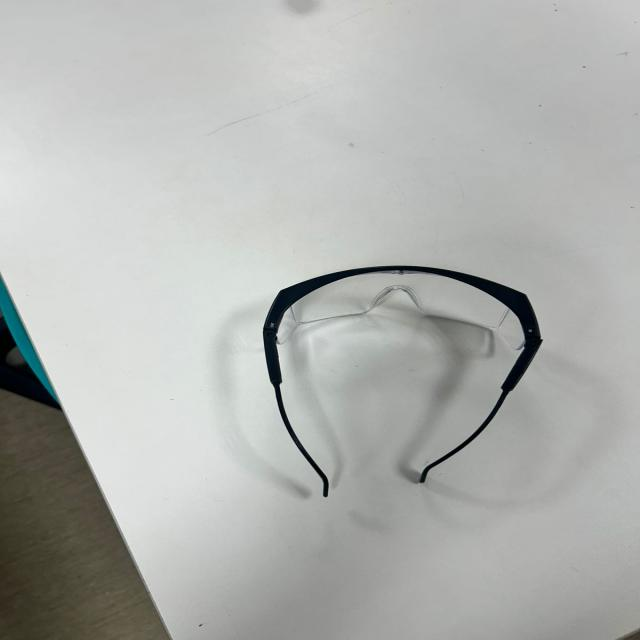oculos-epi: (260, 263, 546, 498)
